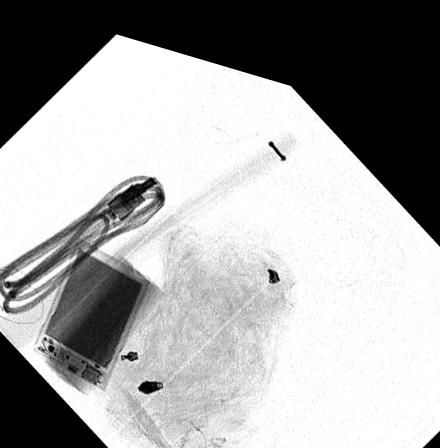Powerbank: (32, 231, 148, 385)
